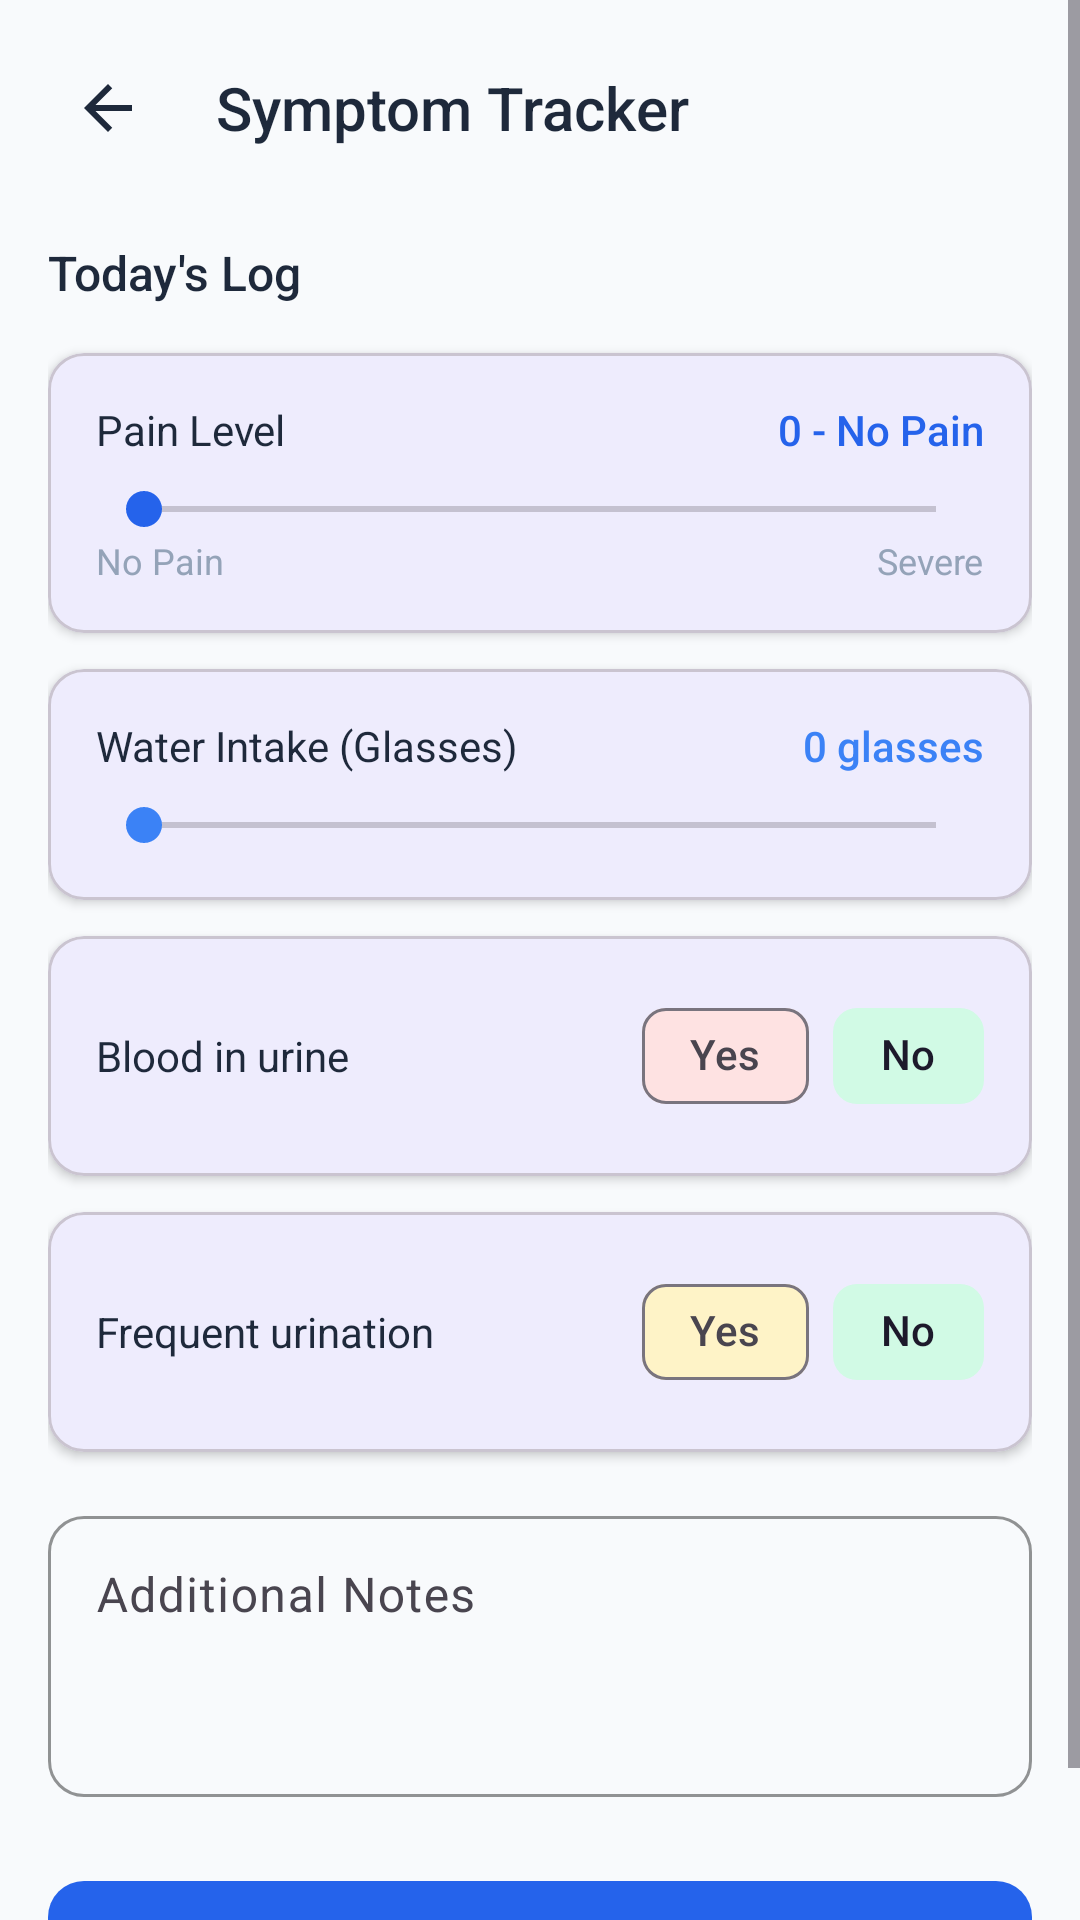

Named icons in this screenshot (1080px x 1920px) and their centers, (x=x, y=y):
Back: (x=108, y=108)
